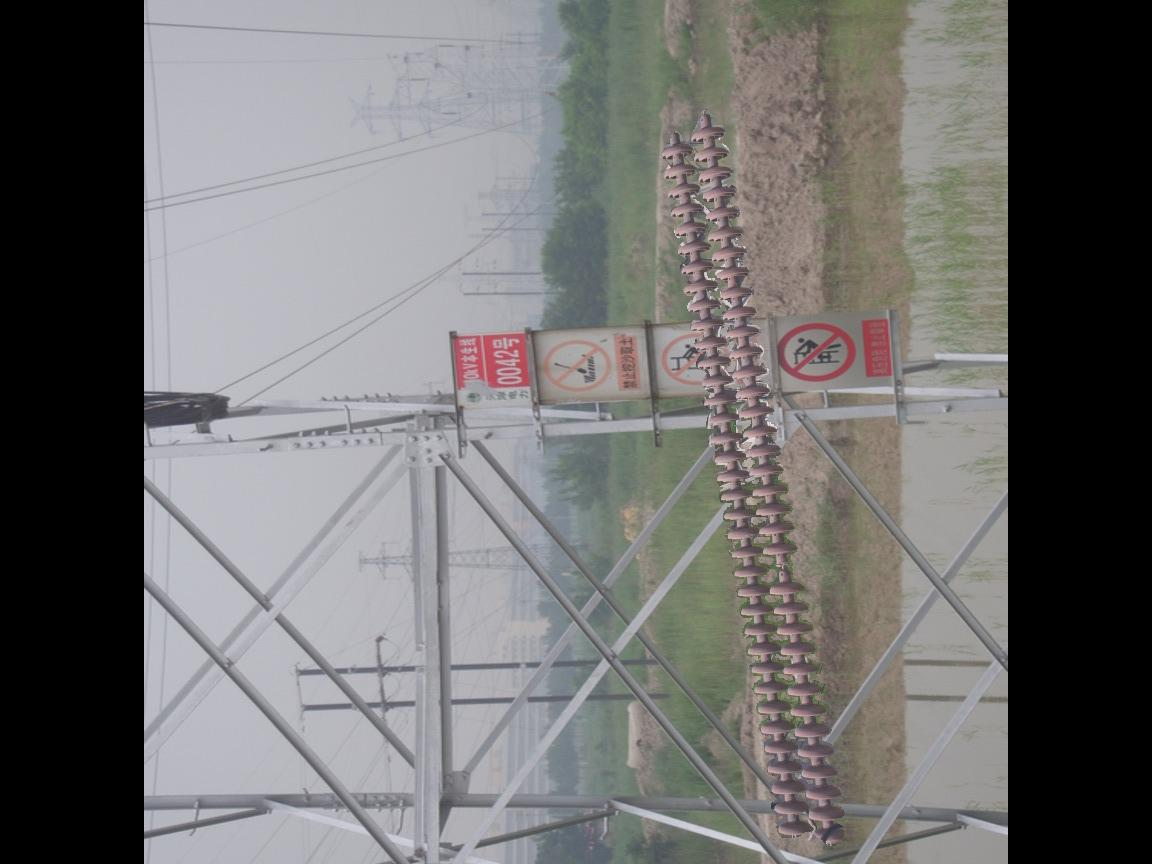insulator: (656, 119, 851, 849)
insulator_stringdrop: (759, 540, 812, 601)
